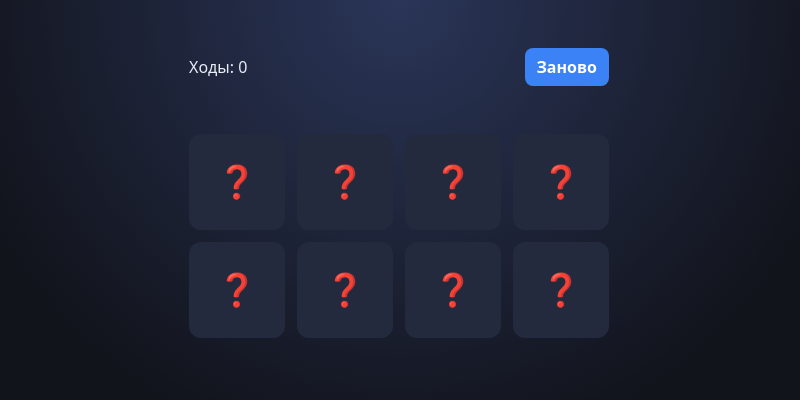
it: MemoryGame › начинает игру заново по кнопке
Step 1. Click the button named "Карточка" → (237, 182), box [189,134,285,230]
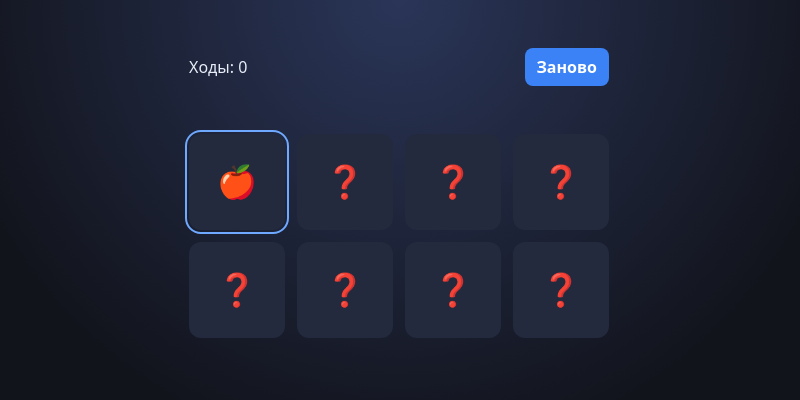
Step 2. Click the button named "Карточка" → (237, 290), box [189,242,285,338]
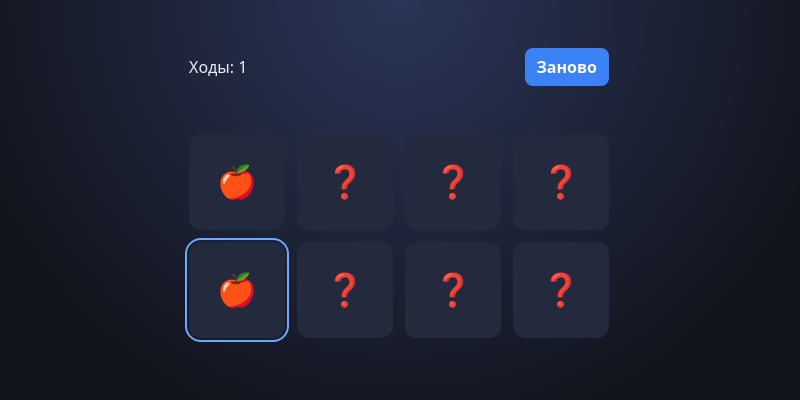
Step 3. Click the button "Заново" → (567, 67), box [524,48,609,86]
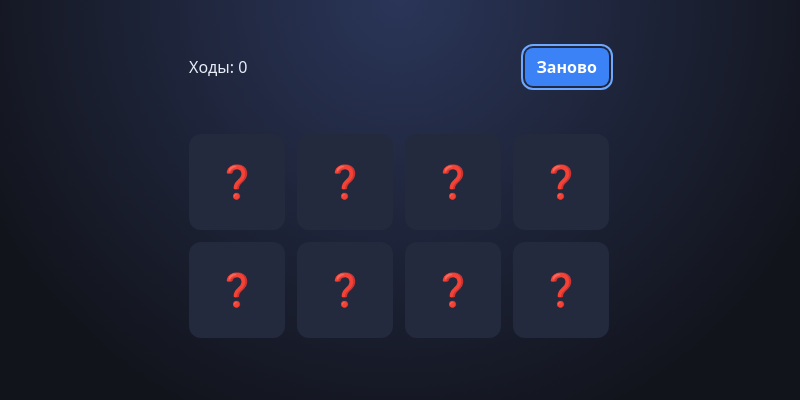
Result: the text "Ходы: 0" is shown at [189,56,247,78]
